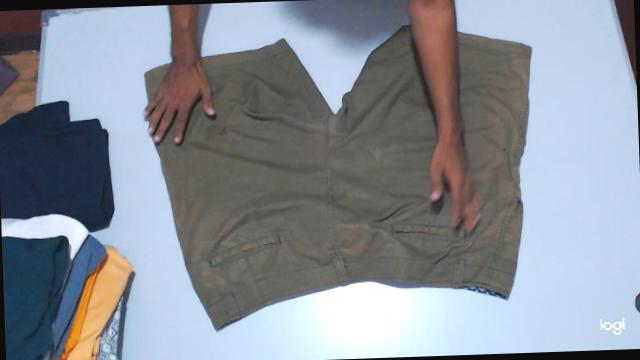new-garment: (156, 26, 531, 329), (157, 26, 531, 329), (146, 62, 172, 116)
